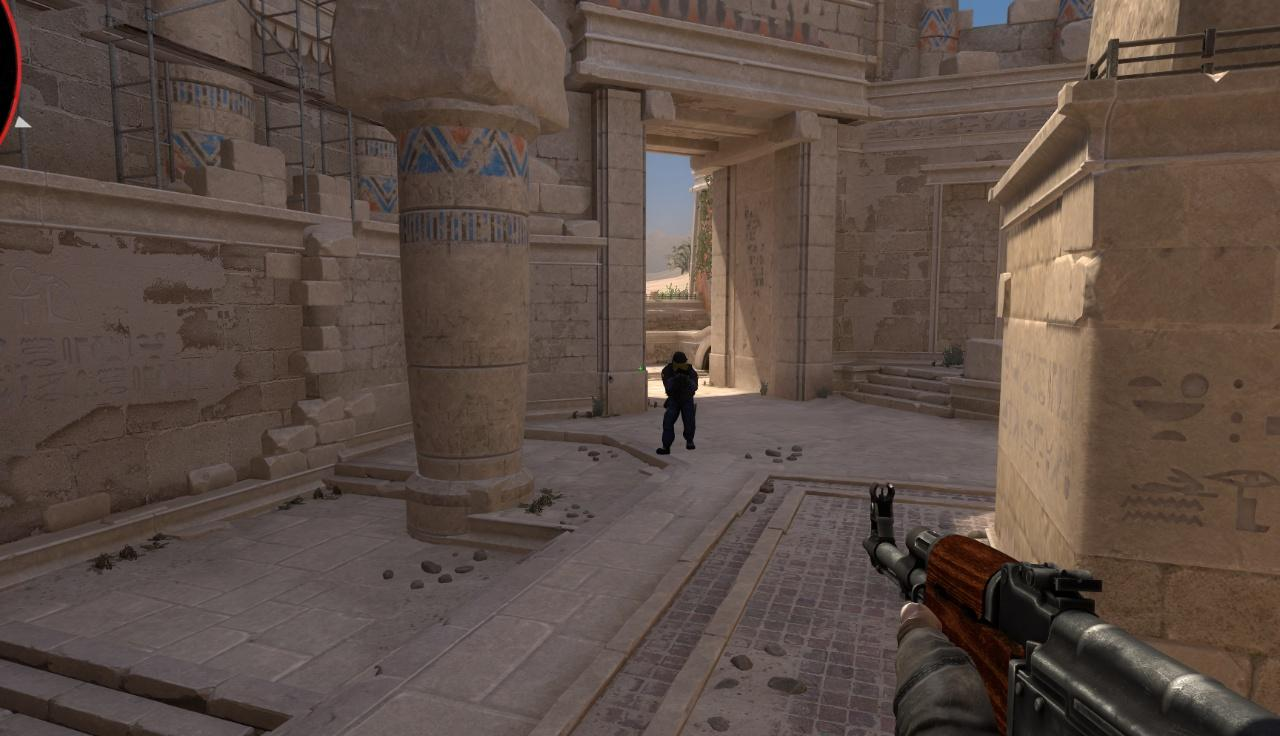ct: (654, 353, 695, 454)
cthead: (672, 351, 687, 371)
rifle: (865, 492, 1280, 733)
